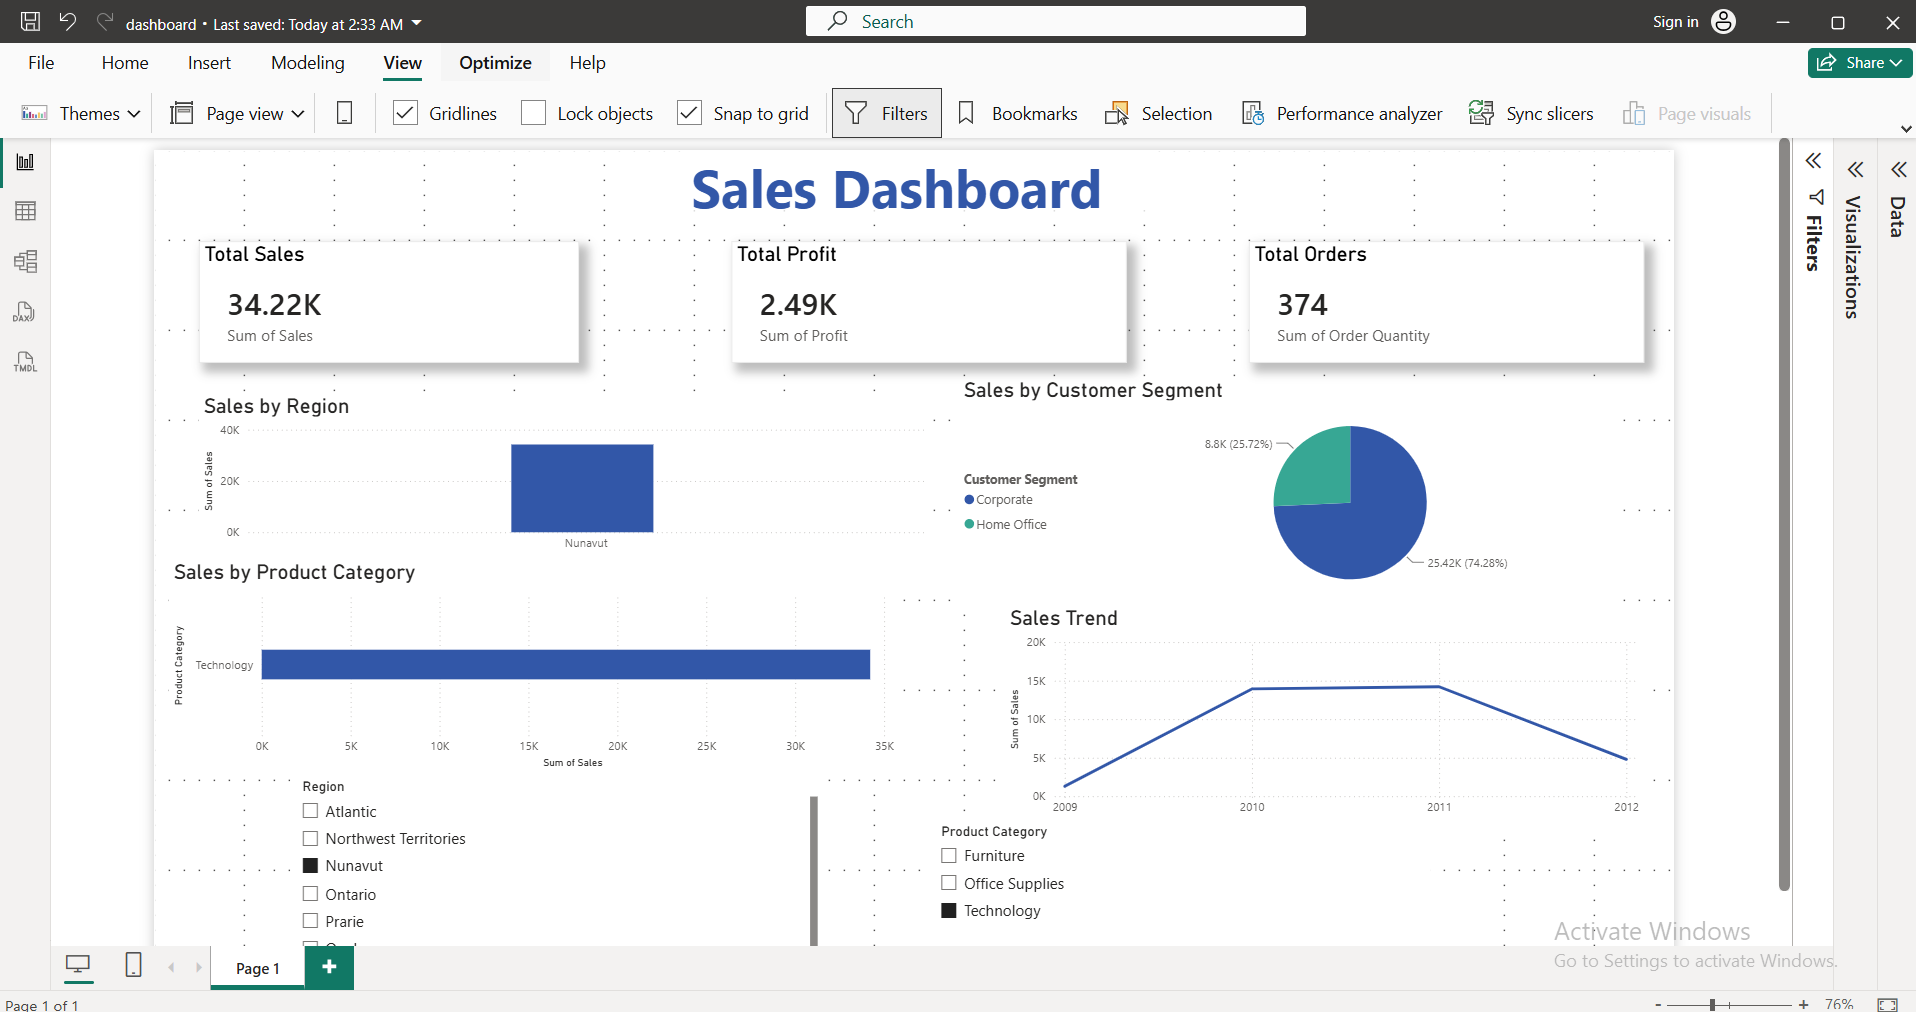

This screenshot's page, from the dashboard's own definition file:
{"tool":"powerbi","page":{"name":"Page 1","canvas":[1600,900],"ordinal":0},"visuals":[{"type":"cardVisual","title":"Total Sales","fields":{"Data":["Sum(Orders.Sales)"]},"box":[48,96,400,128],"z":0},{"type":"clusteredBarChart","title":"Sales by Product Category","fields":{"Y":["Sum(Orders.Sales)"],"Category":["Orders.Product Category"]},"box":[16,432,768,224],"z":3},{"type":"clusteredColumnChart","title":" Sales by Region","fields":{"Category":["Orders.Region"],"Y":["Sum(Orders.Sales)"]},"box":[48,256,768,176],"z":4},{"type":"textbox","title":"Sales Dashboard","box":[560,0,496,64],"z":6},{"type":"pieChart","title":"Sales by Customer Segment","fields":{"Y":["Sum(Orders.Sales)"],"Category":["Orders.Customer Segment"]},"box":[848,240,688,240],"z":7},{"type":"lineChart","title":"Sales Trend","fields":{"Category":["Orders.Order Date.Variation.Date Hierarchy.Year"],"Y":["Sum(Orders.Sales)"]},"box":[896,480,672,240],"z":8},{"type":"slicer","fields":{"Values":["Orders.Region"]},"box":[144,656,560,240],"z":9},{"type":"slicer","fields":{"Values":["Orders.Product Category"]},"box":[816,704,528,160],"z":10},{"type":"cardVisual","title":"Total Profit","fields":{"Data":["Sum(Orders.Profit)"]},"box":[608,96,416,128],"z":13},{"type":"cardVisual","title":"Total Orders","fields":{"Data":["Sum(Orders.Order Quantity)"]},"box":[1152,96,416,128],"z":14}]}

Visuals, with their boxes on the page's 1600x900 design canvas (x1, y1, x2, y2). These are canvas units, not pixel positions in the 1916x1012 screenshot, which may show the page scaled, cropped or inside an application window:
"Total Sales" cardVisual: <region>48, 96, 448, 224</region>
"Sales by Product Category" clusteredBarChart: <region>16, 432, 784, 656</region>
" Sales by Region" clusteredColumnChart: <region>48, 256, 816, 432</region>
"Sales Dashboard" textbox: <region>560, 0, 1056, 64</region>
"Sales by Customer Segment" pieChart: <region>848, 240, 1536, 480</region>
"Sales Trend" lineChart: <region>896, 480, 1568, 720</region>
slicer - Orders.Region: <region>144, 656, 704, 896</region>
slicer - Orders.Product Category: <region>816, 704, 1344, 864</region>
"Total Profit" cardVisual: <region>608, 96, 1024, 224</region>
"Total Orders" cardVisual: <region>1152, 96, 1568, 224</region>
